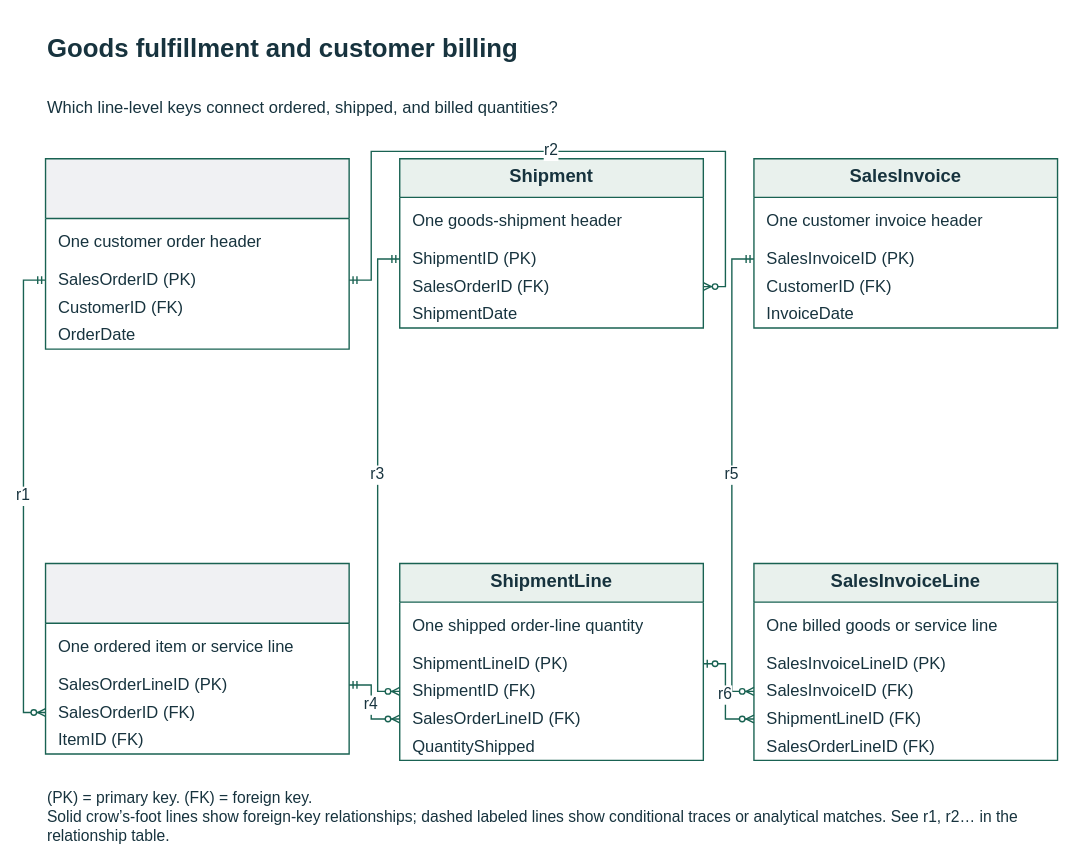
Image size: 1083x861. Some labels were removed from this diagram. Each missing label, with the box of its shape:
SalesOrder Shared reference: (44, 158, 349, 349)
SalesOrderLine Shared reference: (44, 562, 349, 754)
